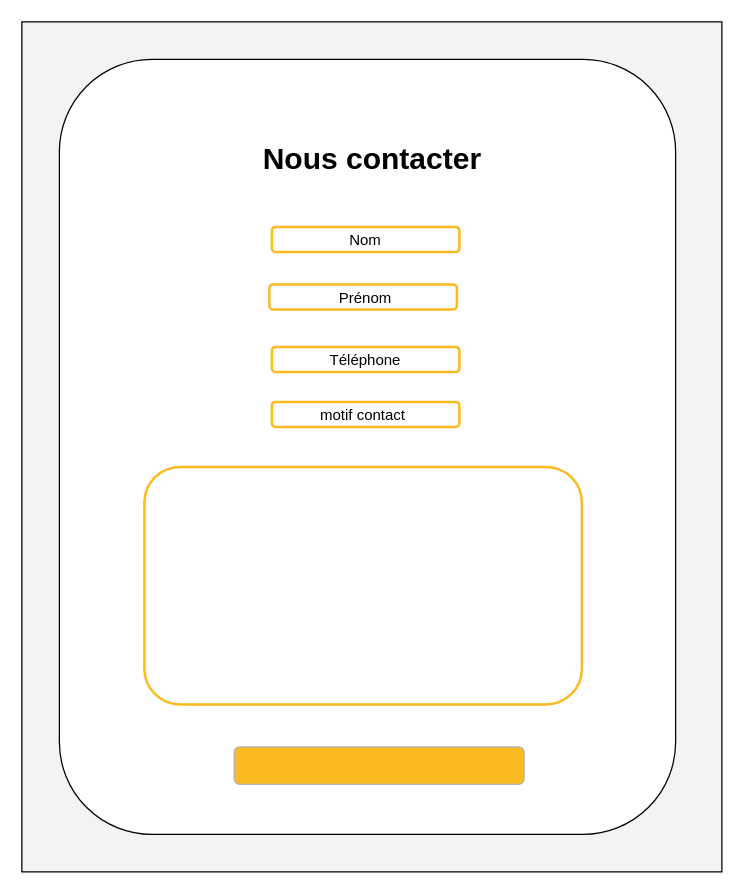
The diagram is 744 pixels wide and 894 high, and some of its shapes have lost their labels. Here are the shapes that lost their labels. From the top down, the centre of each, then its label:
the point at 362,585: Message
the point at 378,765: Focused
